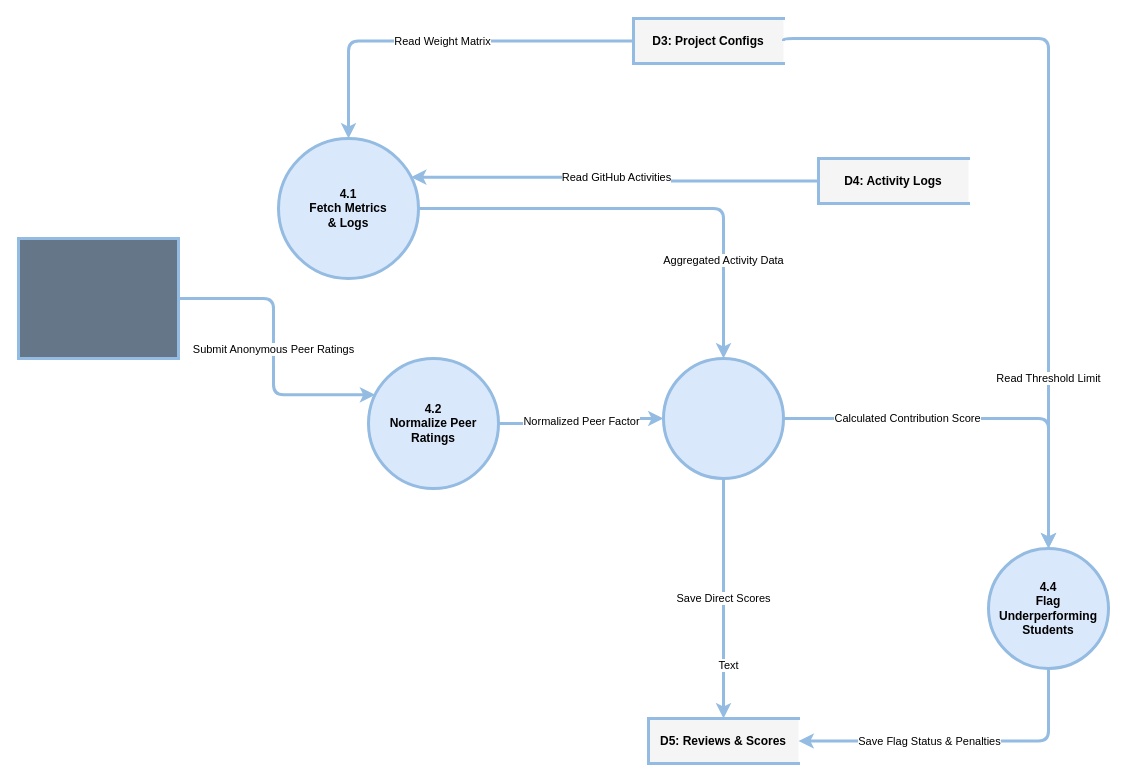
The diagram is 1127 pixels wide and 782 high, and some of its shapes have lost their labels. The shapes that lost their labels are listed below. From the top down, each one's centre as x and y in pixels, then its label:
pixel 98 298: STUDENTS
pixel 723 418: 4.3 Calculate Contribution Score
